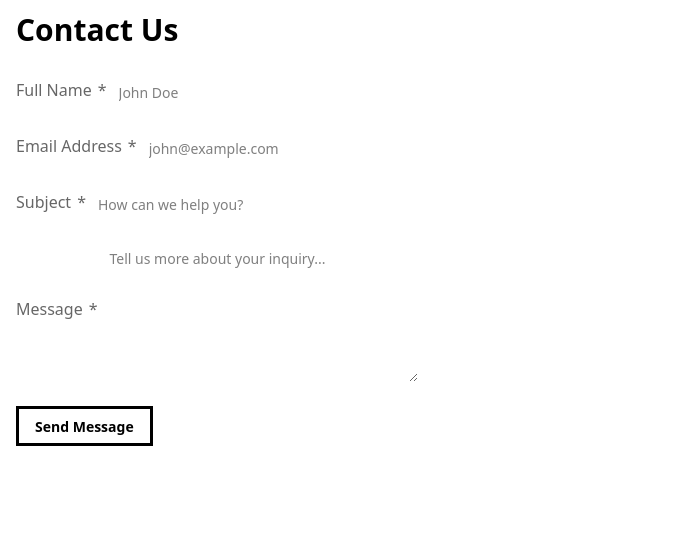
ContactForm › Rendering › Form Validation › should validate message length
The width and height of the screenshot is (698, 535).
Type "Too short" into the text box labelled "Message *" at (258, 311), box left=98, top=240, right=418, bottom=382
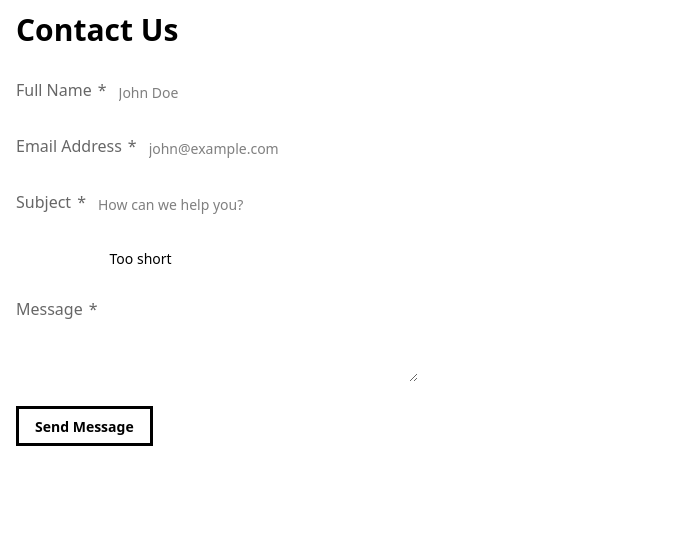
// Try to submit with short message
Click the button "Send Message" at (84, 426), box left=16, top=406, right=153, bottom=446
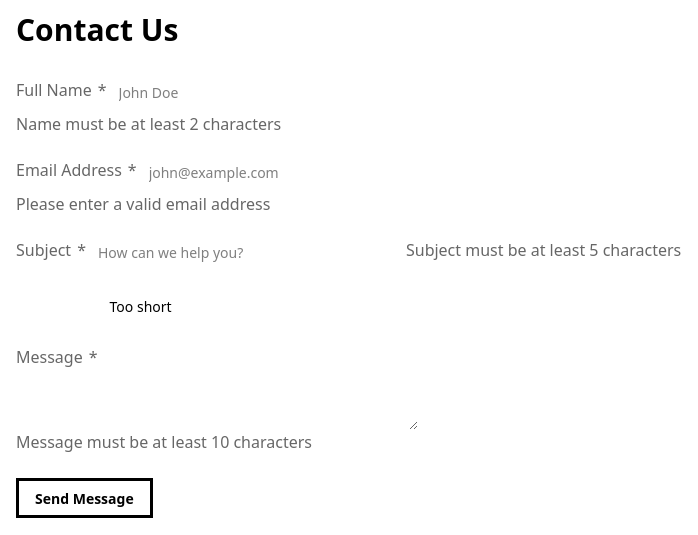
Check: the text "Message must be at least 10 characters" is shown, box left=16, top=430, right=312, bottom=454
